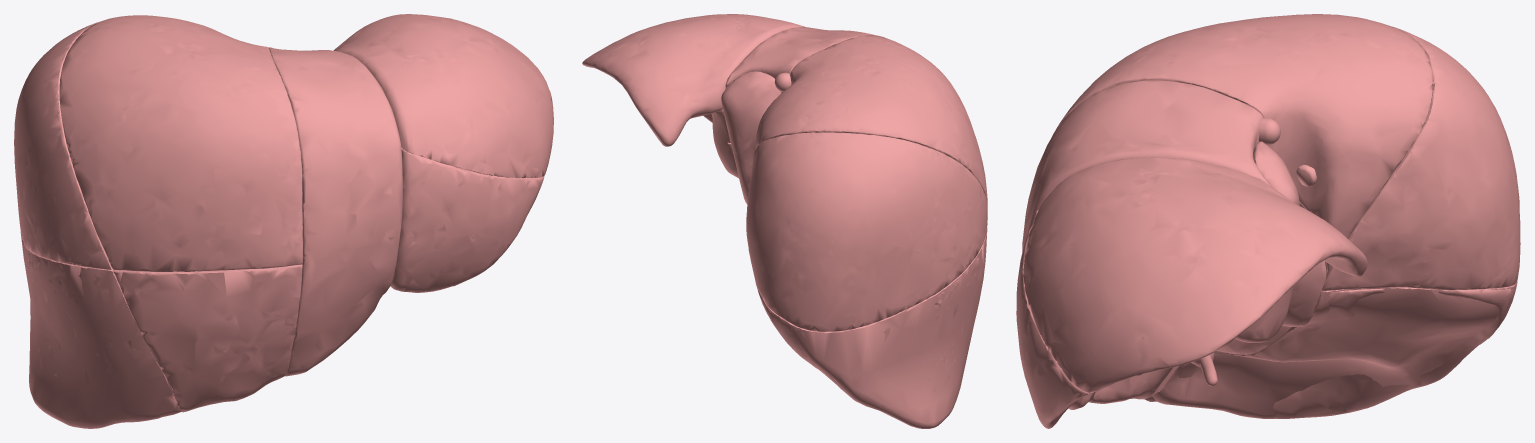
The model's file is liver.glb.
3 renders of one model, left to right at view 1: azimuth 30°, elevation 25°; view 2: azimuth 150°, elevation 25°; view 3: azimuth 270°, elevation 25°, orthographic. The views are drawn at different scales.
Parts seen in each view (by area): view 1: caudate lobe of liver; view 2: caudate lobe of liver; view 3: caudate lobe of liver.
Boxes of the visible parts, bbox=[...] form: caudate lobe of liver: bbox=[14, 14, 553, 428]; caudate lobe of liver: bbox=[582, 14, 987, 428]; caudate lobe of liver: bbox=[1016, 14, 1520, 428].
Bounding box in the file's own units: 0.2094 × 0.1552 × 0.159.
